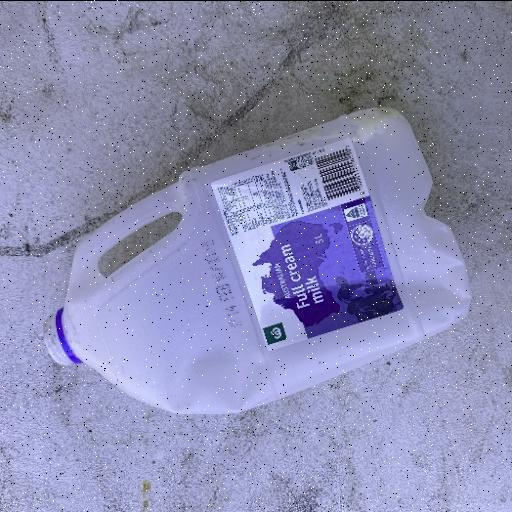Plastic: (41, 104, 472, 418)
